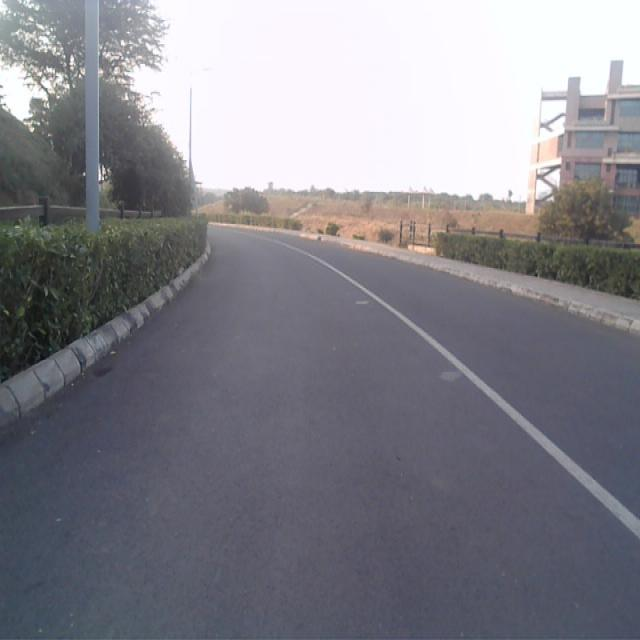lane: (0, 229, 640, 640)
